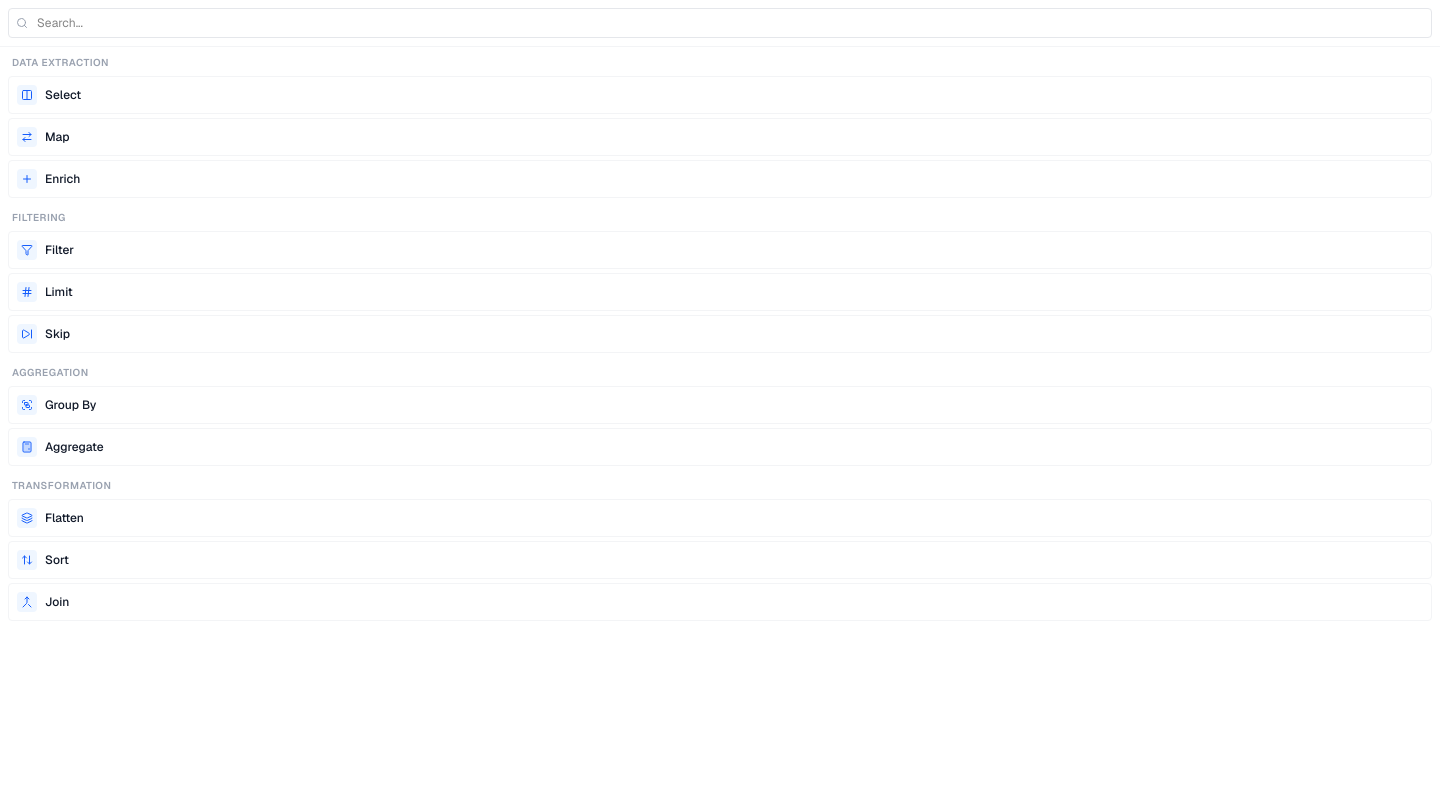
Test: OperationPalette › Search › should show no results message when search has no matches
Type "xyz123nonexistent" into the field named "search operations". click: (720, 23)
box: [8,8,1432,38]
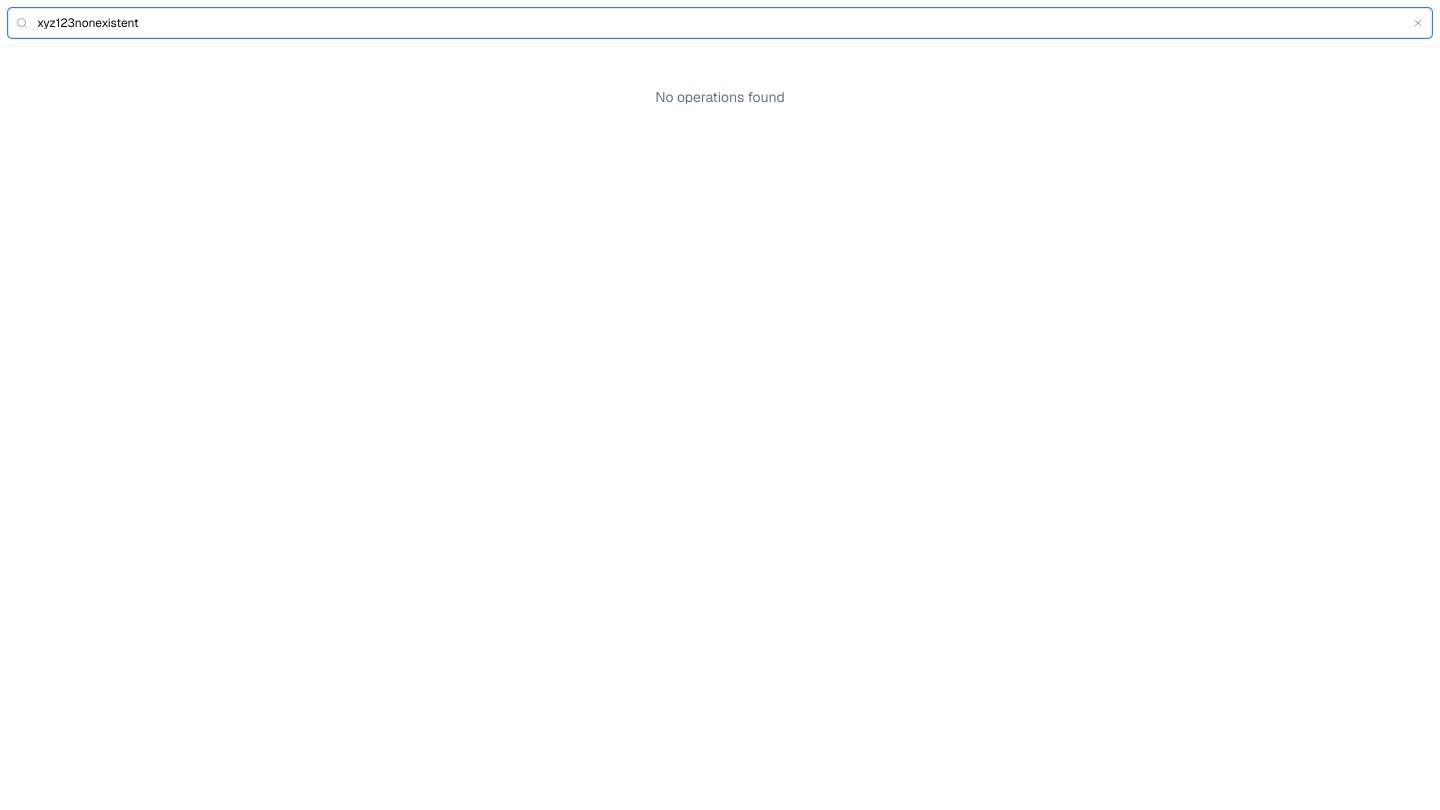
Now the text "No operations found" is shown, box [655,88,785,106]
